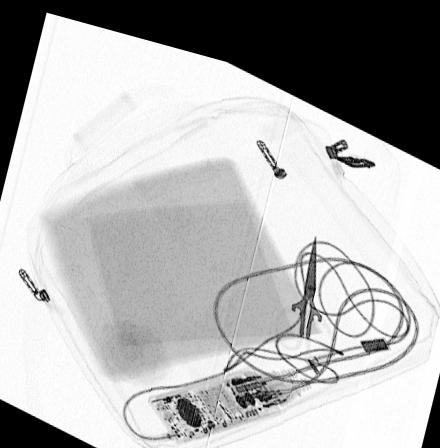Scissors: (270, 215, 337, 346)
